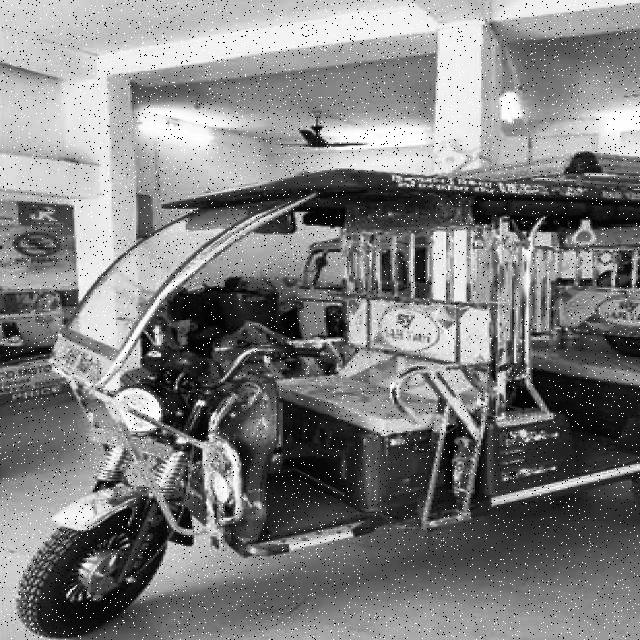Toto: (20, 165, 640, 632)
